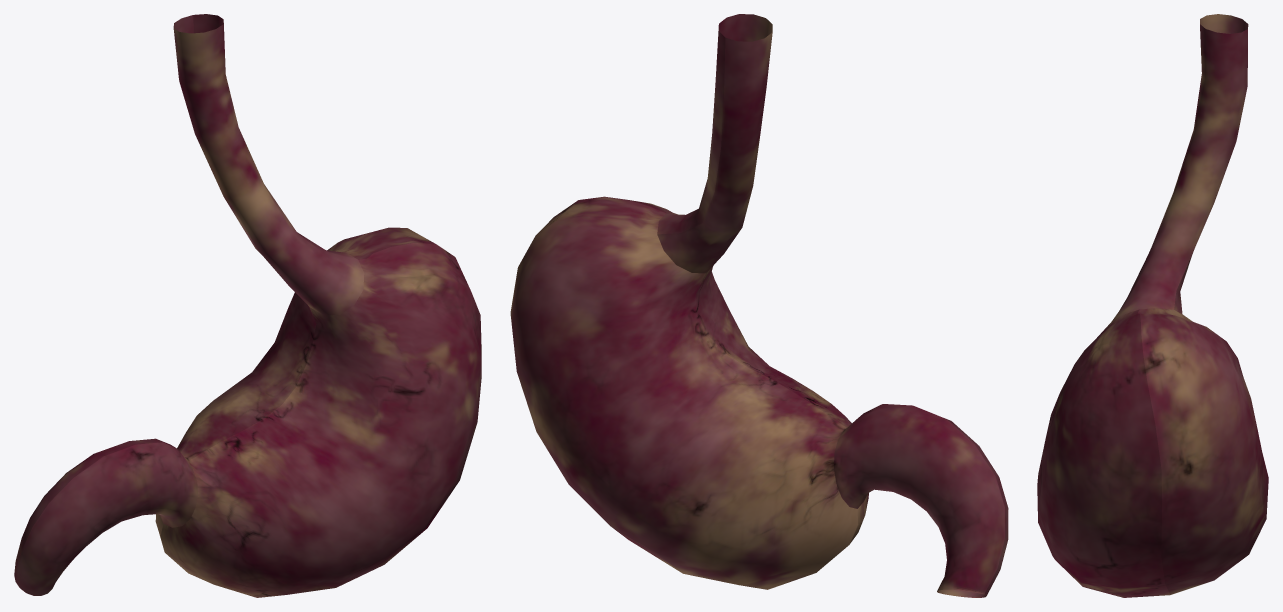
File: stomach.glb
3 views of the same model, side by side, from view 1: azimuth 30°, elevation 25°; view 2: azimuth 150°, elevation 25°; view 3: azimuth 270°, elevation 25° (orthographic). The views are drawn at different scales.
Parts seen in each view (by area): view 1: Division_1_stomach_0.001, Division_1_stomach_0.005, Division_1_stomach_0.003, Division_1_stomach_0.004; view 2: Division_1_stomach_0.004, Division_1_stomach_0.003, Division_1_stomach_0.005, Division_1_stomach_0.001; view 3: Division_1_stomach_0.001, Division_1_stomach_0.004, Division_1_stomach_0.005.
Boxes of the visible parts, left/top/right/bottom form: Division_1_stomach_0.001: left=160, top=243, right=481, bottom=597; Division_1_stomach_0.005: left=173, top=14, right=364, bottom=315; Division_1_stomach_0.003: left=14, top=438, right=197, bottom=595; Division_1_stomach_0.004: left=155, top=227, right=436, bottom=545; Division_1_stomach_0.004: left=510, top=196, right=858, bottom=589; Division_1_stomach_0.003: left=834, top=404, right=1008, bottom=597; Division_1_stomach_0.005: left=657, top=14, right=772, bottom=273; Division_1_stomach_0.001: left=610, top=197, right=868, bottom=544; Division_1_stomach_0.001: left=1037, top=309, right=1169, bottom=597; Division_1_stomach_0.004: left=1138, top=308, right=1268, bottom=594; Division_1_stomach_0.005: left=1111, top=14, right=1248, bottom=321.
Size of the model in its own units: 26.91 by 31.47 by 12.25.
Materials: 1 (1 with a texture image).
